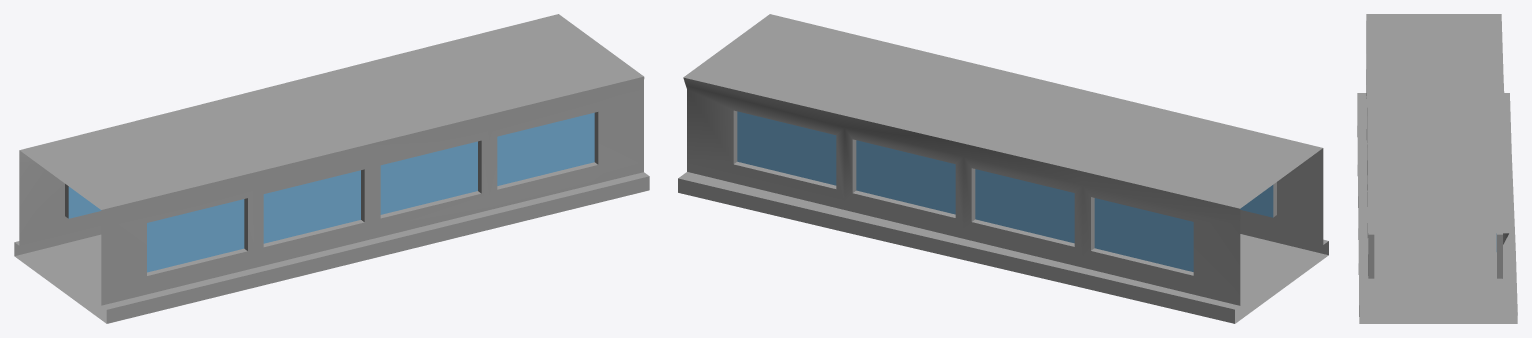
File: Bridge.fbx
The picture shows the model from 3 angles, left to right: view 1: azimuth 30°, elevation 25°; view 2: azimuth 150°, elevation 25°; view 3: azimuth 270°, elevation 25°; orthographic projection. The views are drawn at different scales.
Visible parts, largest first — view 1: Bridge, Windows; view 2: Bridge, Windows; view 3: Bridge.
Part boxes in pixels (x1,y1,x2,y2): Bridge: [14, 14, 649, 323]; Windows: [68, 112, 594, 272]; Bridge: [678, 14, 1328, 323]; Windows: [737, 111, 1273, 271]; Bridge: [1357, 14, 1517, 323].
Bounding box in the file's own units: 1783 × 344 × 552.
